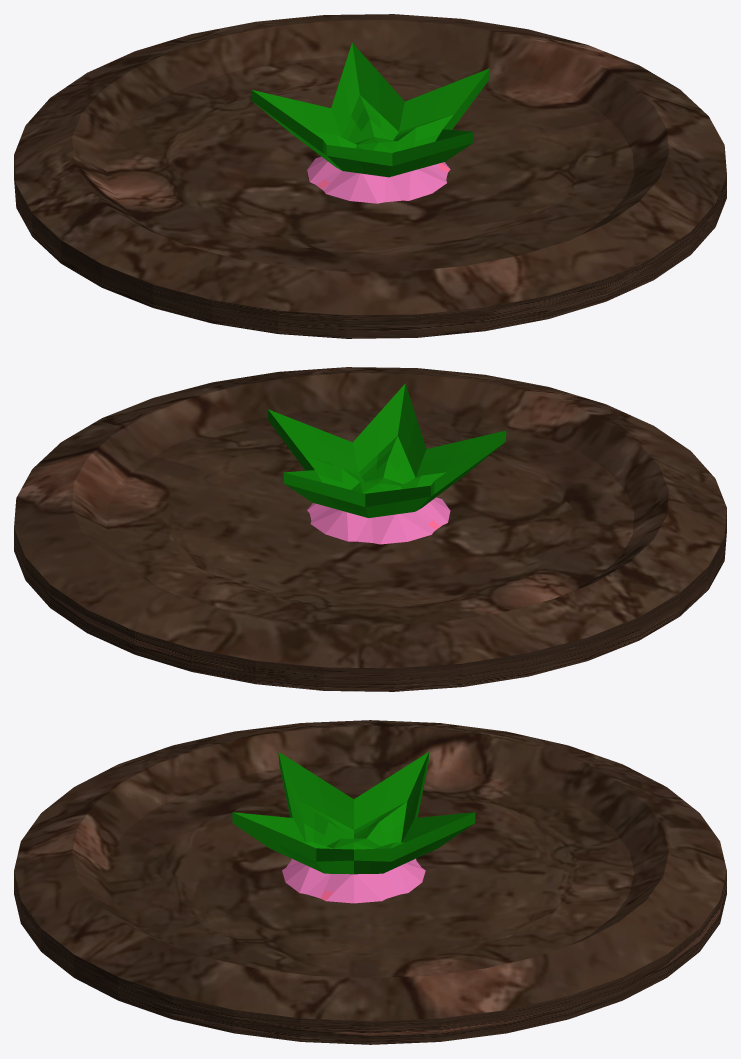
File: turnip1.fbx
3 renders of one model, top to bottom at view 1: azimuth 30°, elevation 25°; view 2: azimuth 150°, elevation 25°; view 3: azimuth 270°, elevation 25°, orthographic.
Visible parts, largest first — view 1: Cylinder.002; view 2: Cylinder.002; view 3: Cylinder.002.
Part boxes in pixels (box(x1,y1,x2,y2)): Cylinder.002: box(14, 14, 726, 338); Cylinder.002: box(14, 367, 726, 691); Cylinder.002: box(14, 720, 726, 1044).
Bounding box in the file's own units: 20 × 3.24 × 20.
